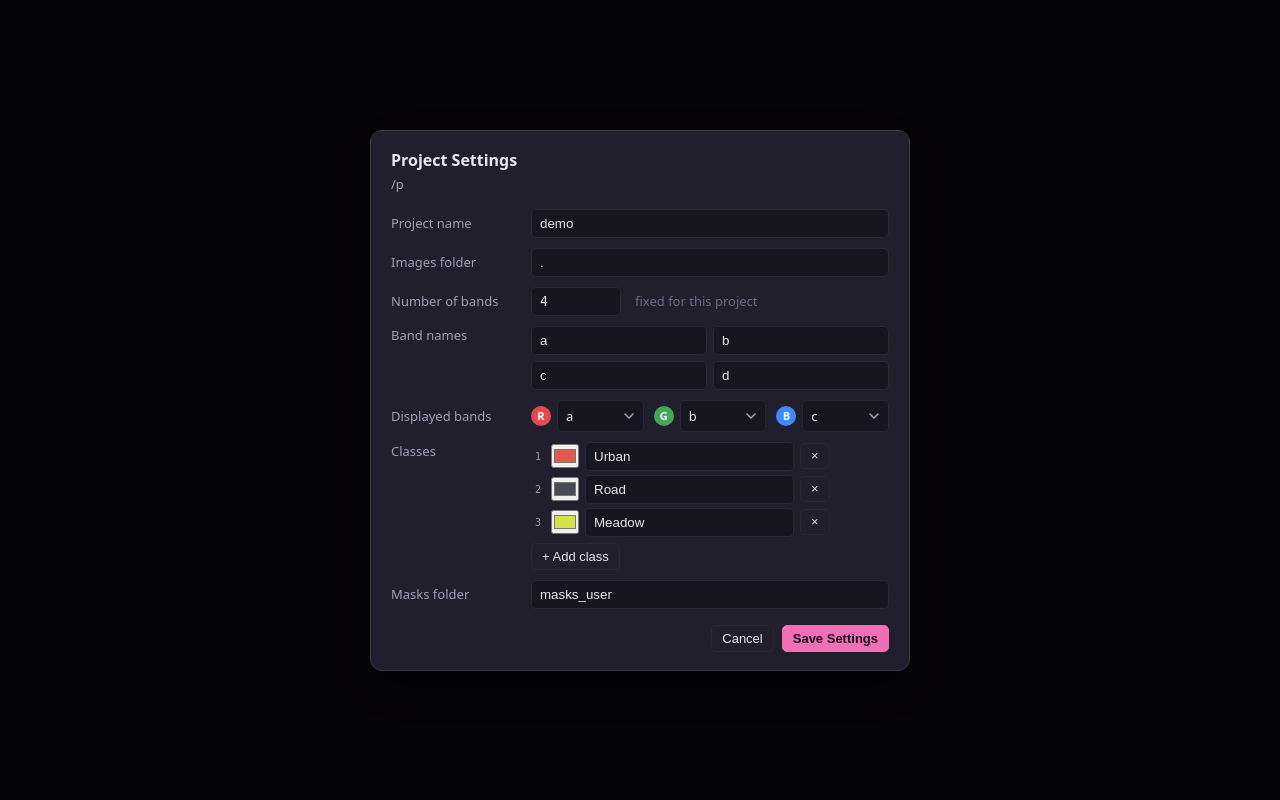
removing a class that has labels › re-arms the confirmation when the removal set changes
The width and height of the screenshot is (1280, 800).
Click the 3rd button with class "class-row-remove". click: (815, 522)
box: left=800, top=509, right=830, bottom=535
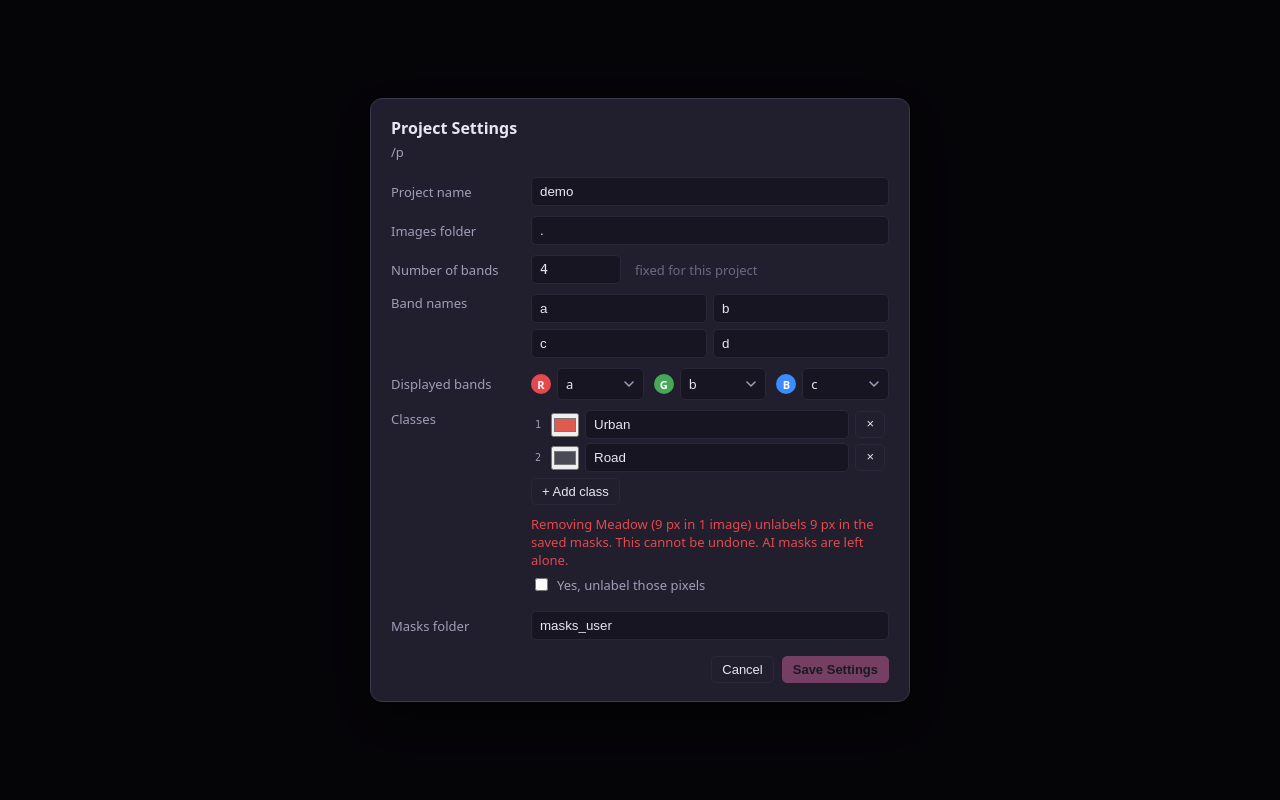
Expected: the text "unlabels" is shown, left=755, top=515, right=810, bottom=533
Click the checkbox labelled "Yes, unlabel those pixels". click: (542, 584)
box: left=535, top=578, right=548, bottom=591
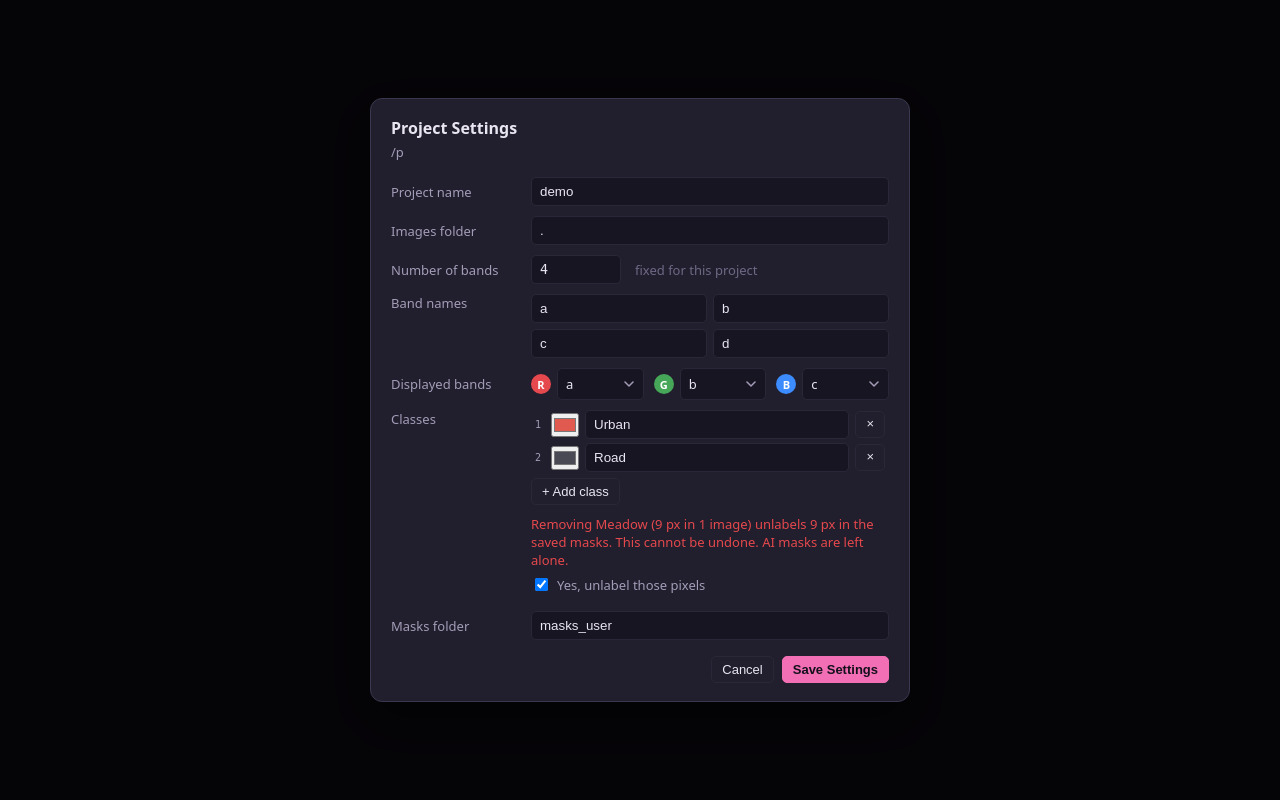
Expected: the button "Save Settings" is enabled, left=782, top=656, right=889, bottom=683
Click the 2nd button with class "class-row-remove". click: (870, 457)
box: left=855, top=444, right=885, bottom=471
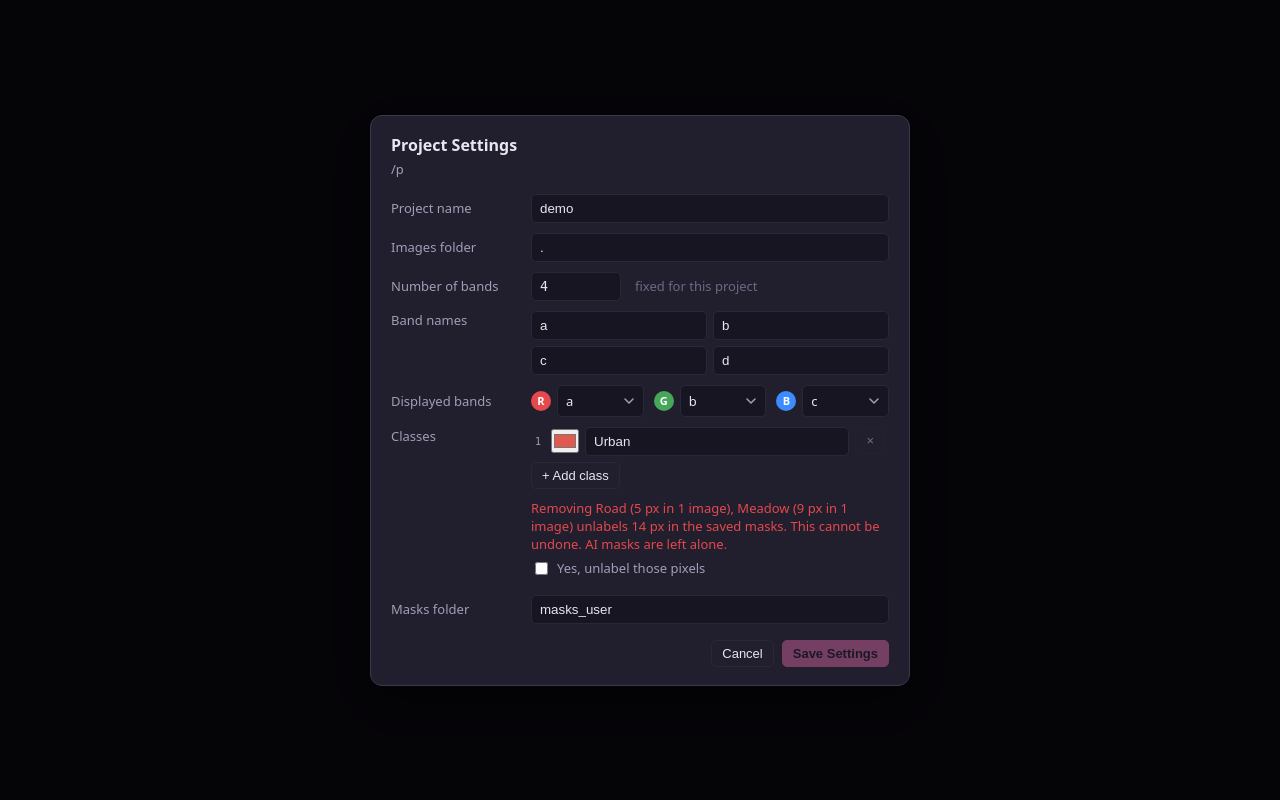
Expected: the button "Save Settings" is disabled, left=782, top=640, right=889, bottom=666
